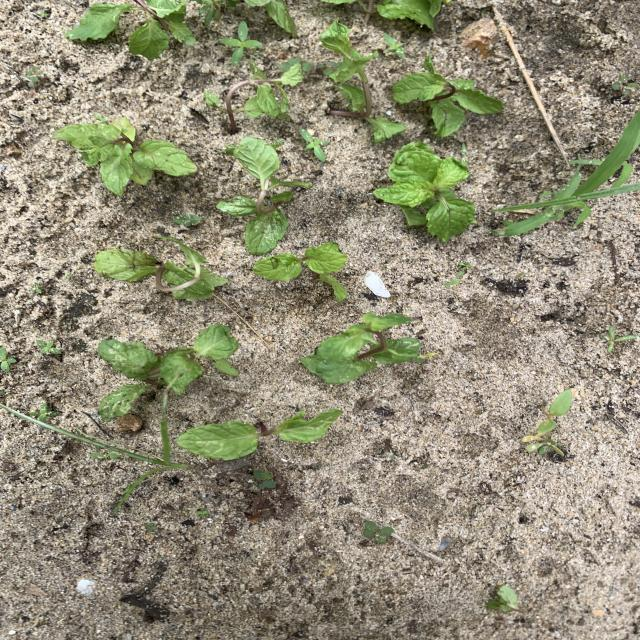crop: (96, 324, 238, 419), (55, 116, 195, 194), (219, 138, 311, 253), (322, 19, 403, 142), (374, 144, 475, 241), (393, 54, 503, 136), (94, 237, 227, 299), (302, 313, 420, 382), (179, 408, 341, 458), (67, 1, 195, 58), (204, 60, 306, 129), (254, 243, 347, 299), (244, 1, 295, 35), (487, 586, 523, 612)
weed: (0, 400, 188, 514), (497, 112, 639, 234), (222, 23, 260, 63), (538, 389, 571, 433), (522, 432, 563, 455), (604, 326, 635, 351), (303, 130, 329, 159), (364, 521, 394, 543), (385, 34, 404, 57), (612, 77, 636, 94), (32, 404, 58, 419), (253, 470, 275, 487), (24, 67, 42, 86), (1, 348, 15, 371), (37, 340, 60, 354), (174, 215, 201, 226), (458, 261, 471, 274), (144, 523, 155, 531), (445, 279, 459, 285), (31, 285, 42, 292), (66, 273, 71, 278)
